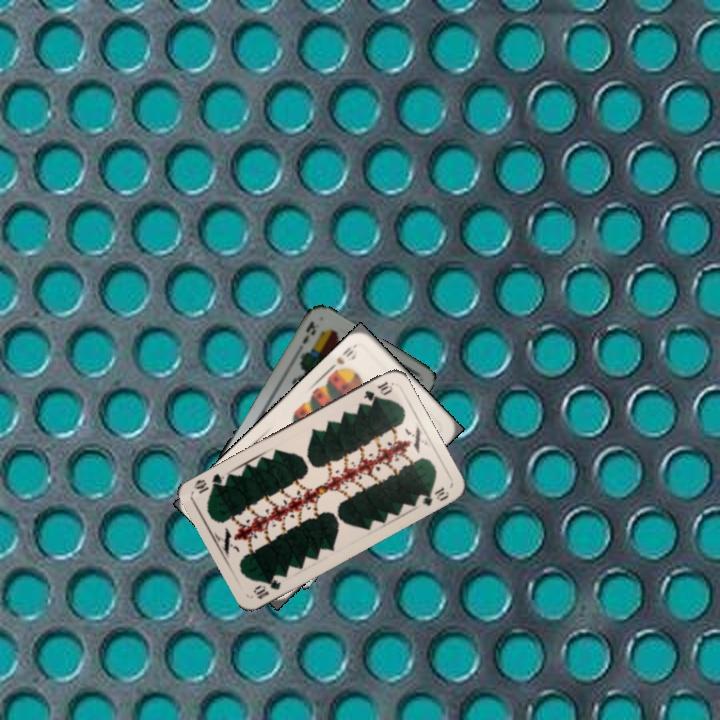EK: (298, 317, 319, 347)
G10: (249, 574, 284, 602), (359, 377, 395, 404)
S10: (326, 343, 356, 372)
